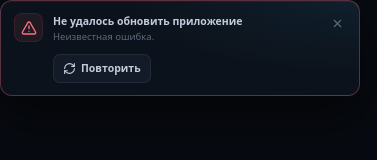
Test: UpdateBanner › повторяет проверку после ошибки и показывает её результат
Click the button "Повторить": (102, 68) [53,54,151,83]
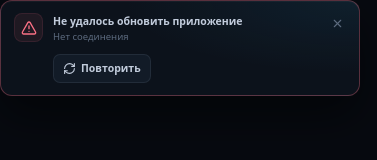
Expected: the text "Нет соединения" is shown, [53,30,129,43]
